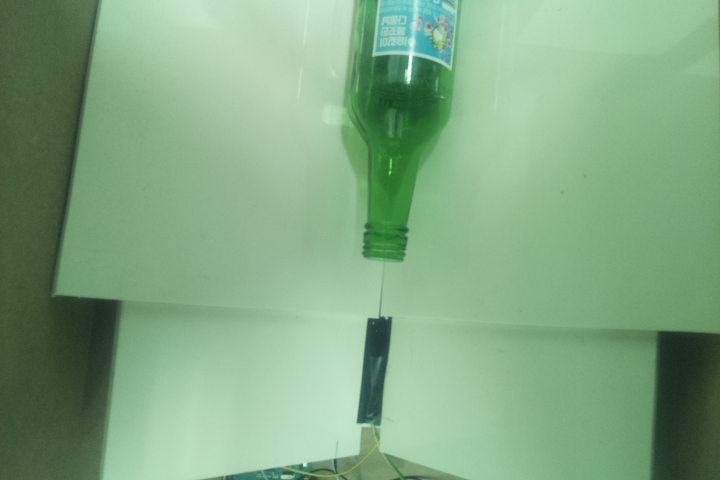soju: (342, 1, 467, 268)
